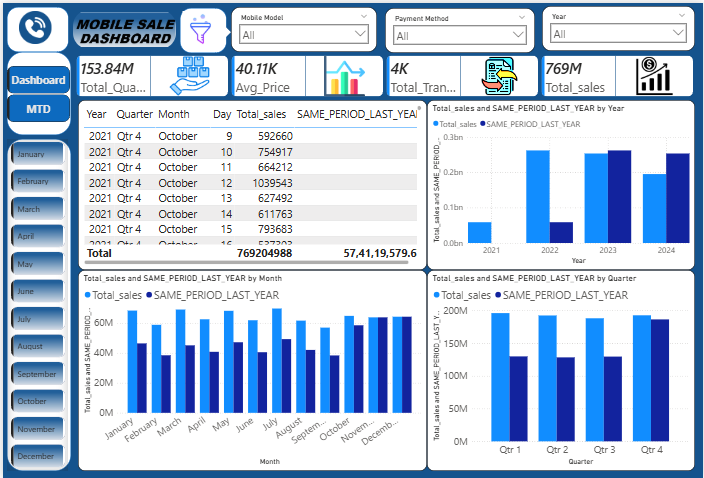

This screenshot's page, from the dashboard's own definition file:
{"tool":"powerbi","page":{"name":"LYR","canvas":[1400,950],"ordinal":1},"visuals":[{"type":"shape","box":[8.3,8.3,123.3,90],"z":0},{"type":"image","box":[28.6,15.7,72.9,65.7],"z":1000},{"type":"shape","box":[8,98,128,166],"z":2000},{"type":"cardVisual","fields":{"Data":["Sales_Data.Total_Quantity","Sales_Data.Avg_Price","Sales_Data.Total_Transaction","Sales_Data.Total_sales"]},"box":[140,98,1248,96],"z":3000},{"type":"slicer","fields":{"Values":["Sales_Data.Mobile Model"]},"box":[456,8,292,90],"z":4000},{"type":"slicer","fields":{"Values":["Sales_Data.Payment Method"]},"box":[764,10,300,90],"z":5000},{"type":"slicer","fields":{"Values":["CustomCalander.Date.Variation.Date Hierarchy.Year"]},"box":[1078,6,306,90],"z":6000},{"type":"shape","box":[353.3,10,93.3,90],"z":7000},{"type":"shape","box":[428.3,48.3,28.3,20],"z":8000},{"type":"image","box":[353.3,16.7,81.7,71.7],"z":9000},{"type":"tableEx","fields":{"Values":["CustomCalander.Date.Variation.Date Hierarchy.Year","CustomCalander.Date.Variation.Date Hierarchy.Quarter","CustomCalander.Date.Variation.Date Hierarchy.Month","CustomCalander.Date.Variation.Date Hierarchy.Day","Sales_Data.Total_sales","Sales_Data.SAME_PERIOD_LAST_YEAR"]},"box":[150,194,698,340],"z":10000},{"type":"clusteredColumnChart","fields":{"Category":["CustomCalander.Date.Variation.Date Hierarchy.Year","CustomCalander.Date.Variation.Date Hierarchy.Quarter","CustomCalander.Date.Variation.Date Hierarchy.Month","CustomCalander.Date.Variation.Date Hierarchy.Day"],"Y":["Sales_Data.Total_sales","Sales_Data.SAME_PERIOD_LAST_YEAR"]},"box":[848,194,536,340],"z":11000},{"type":"shape","box":[8,272,128,664],"z":12000},{"type":"clusteredColumnChart","fields":{"Category":["CustomCalander.Date.Variation.Date Hierarchy.Year","CustomCalander.Date.Variation.Date Hierarchy.Quarter","CustomCalander.Date.Variation.Date Hierarchy.Month","CustomCalander.Date.Variation.Date Hierarchy.Day"],"Y":["Sales_Data.Total_sales","Sales_Data.SAME_PERIOD_LAST_YEAR"]},"box":[150,534,698,402],"z":13000},{"type":"clusteredColumnChart","fields":{"Category":["CustomCalander.Date.Variation.Date Hierarchy.Year","CustomCalander.Date.Variation.Date Hierarchy.Quarter","CustomCalander.Date.Variation.Date Hierarchy.Month","CustomCalander.Date.Variation.Date Hierarchy.Day"],"Y":["Sales_Data.Total_sales","Sales_Data.SAME_PERIOD_LAST_YEAR"]},"box":[848,534,536,402],"z":14000},{"type":"pageNavigator","box":[8,126,126,112],"z":15000},{"type":"advancedSlicerVisual","fields":{"Values":["CustomCalander.Date.Variation.Date Hierarchy.Month"]},"box":[8.6,271.4,122.9,664.3],"z":16000},{"type":"image","box":[140,14,206,78],"z":17000}]}

Visuals, with their boxes in screenshot pixels (x1, y1, x2, y2), scaled from the page's 1400x950 canvas onto the 704x478 screenshot:
shape: box(4, 4, 66, 49)
image: box(14, 8, 51, 41)
shape: box(4, 49, 68, 133)
cardVisual - Sales_Data.Total_Quantity x Sales_Data.Avg_Price: box(70, 49, 698, 98)
slicer - Sales_Data.Mobile Model: box(229, 4, 376, 49)
slicer - Sales_Data.Payment Method: box(384, 5, 535, 50)
slicer - CustomCalander.Date.Variation.Date Hierarchy.Year: box(542, 3, 696, 48)
shape: box(178, 5, 225, 50)
shape: box(215, 24, 230, 34)
image: box(178, 8, 219, 44)
tableEx - CustomCalander.Date.Variation.Date Hierarchy.Year x CustomCalander.Date.Variation.Date Hierarchy.Quarter: box(75, 98, 426, 269)
clusteredColumnChart - CustomCalander.Date.Variation.Date Hierarchy.Year x CustomCalander.Date.Variation.Date Hierarchy.Quarter: box(426, 98, 696, 269)
shape: box(4, 137, 68, 471)
clusteredColumnChart - CustomCalander.Date.Variation.Date Hierarchy.Year x CustomCalander.Date.Variation.Date Hierarchy.Quarter: box(75, 269, 426, 471)
clusteredColumnChart - CustomCalander.Date.Variation.Date Hierarchy.Year x CustomCalander.Date.Variation.Date Hierarchy.Quarter: box(426, 269, 696, 471)
pageNavigator: box(4, 63, 67, 120)
advancedSlicerVisual - CustomCalander.Date.Variation.Date Hierarchy.Month: box(4, 137, 66, 471)
image: box(70, 7, 174, 46)
